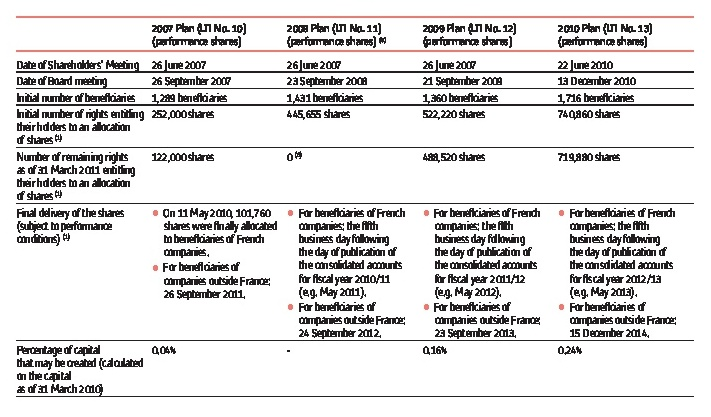table: (0, 0, 711, 417)
